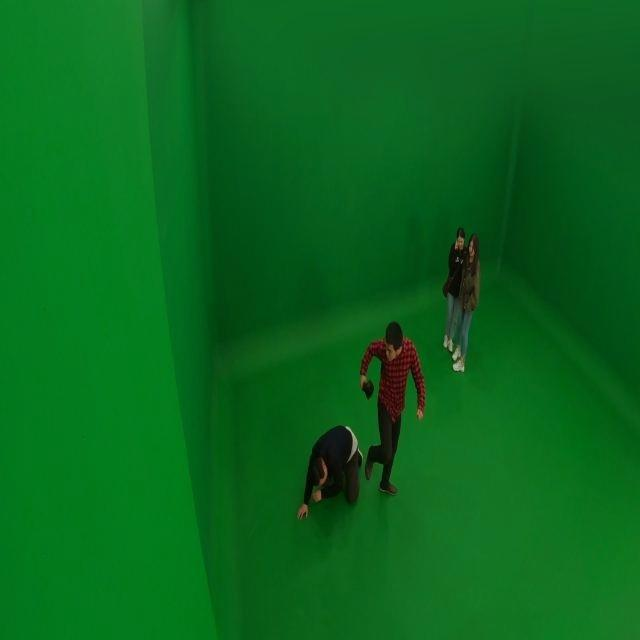fight: (296, 319, 425, 524)
non-fight: (438, 227, 481, 371)
